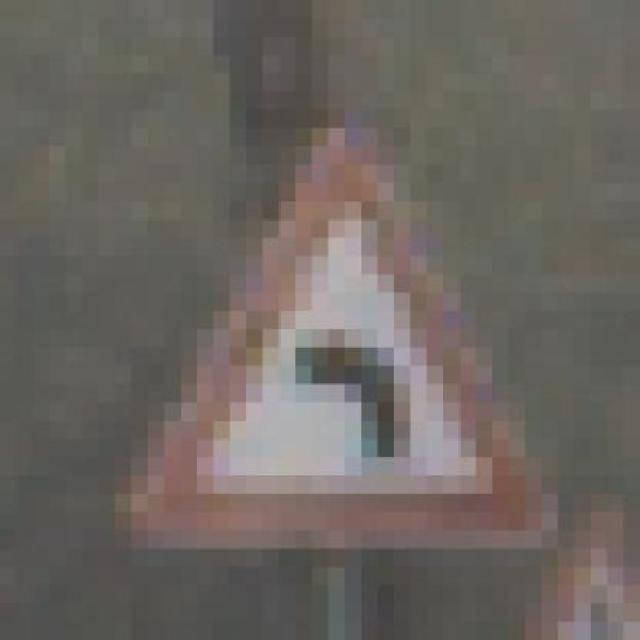Dangerous Left Curve Ahead: (99, 128, 542, 549)
